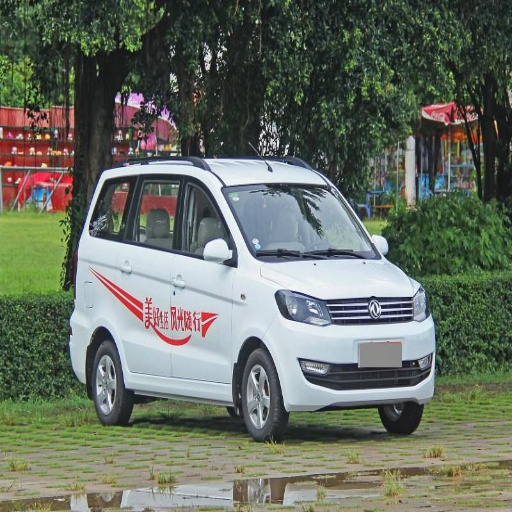front_bumper: (271, 295, 435, 409)
front_right_door: (156, 175, 238, 383)
front_right_light: (274, 289, 331, 325)
hood: (260, 258, 418, 300)
